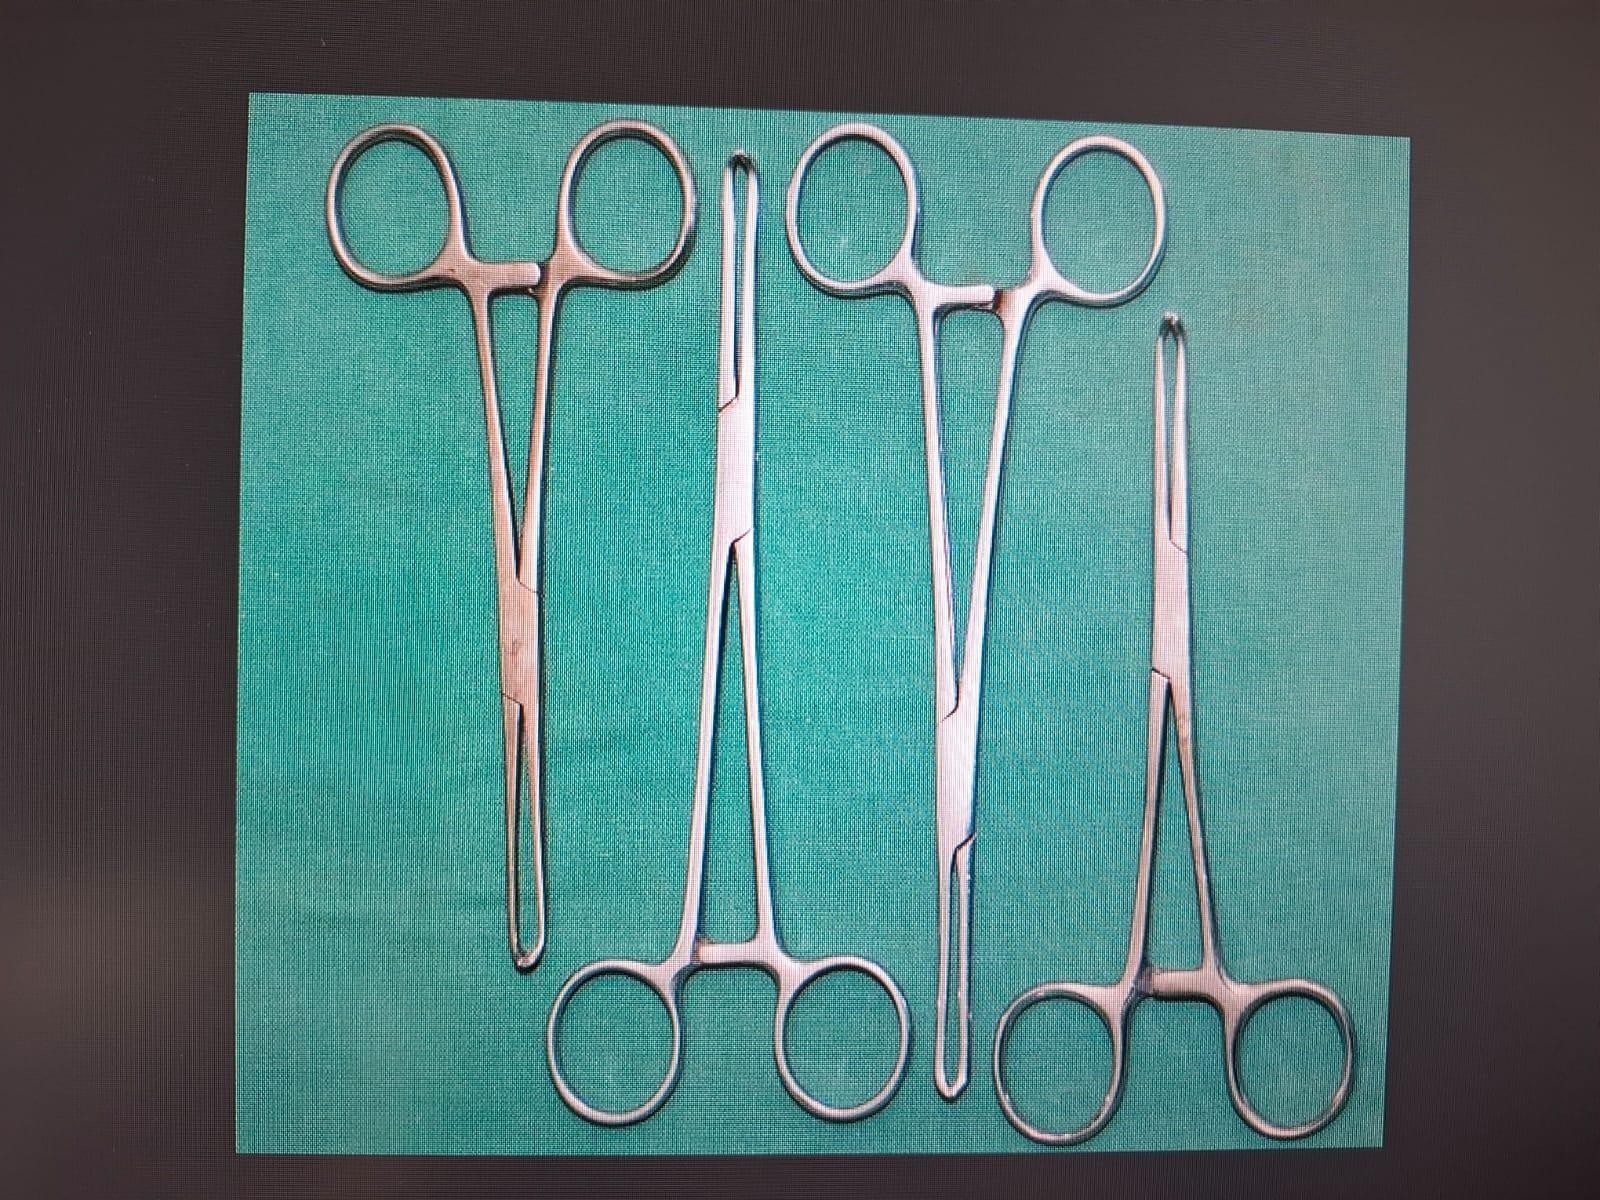Allis Forceps: (542, 144, 946, 1140), (780, 120, 1164, 1118), (982, 294, 1378, 1152), (314, 114, 696, 994)
